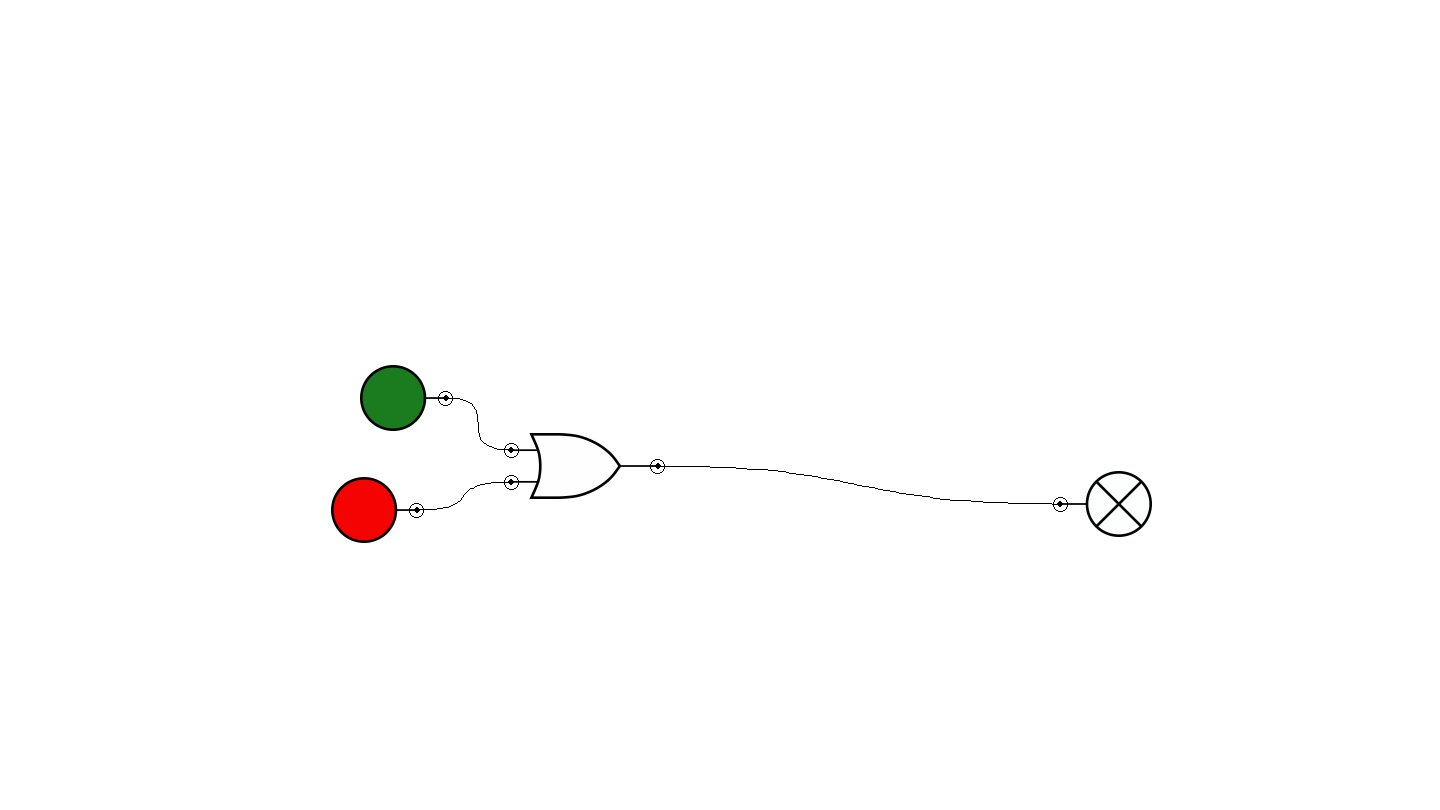bulb: (1053, 471, 1152, 537)
or: (504, 433, 665, 499)
switch_False: (331, 477, 424, 543)
switch_True: (360, 365, 453, 431)
